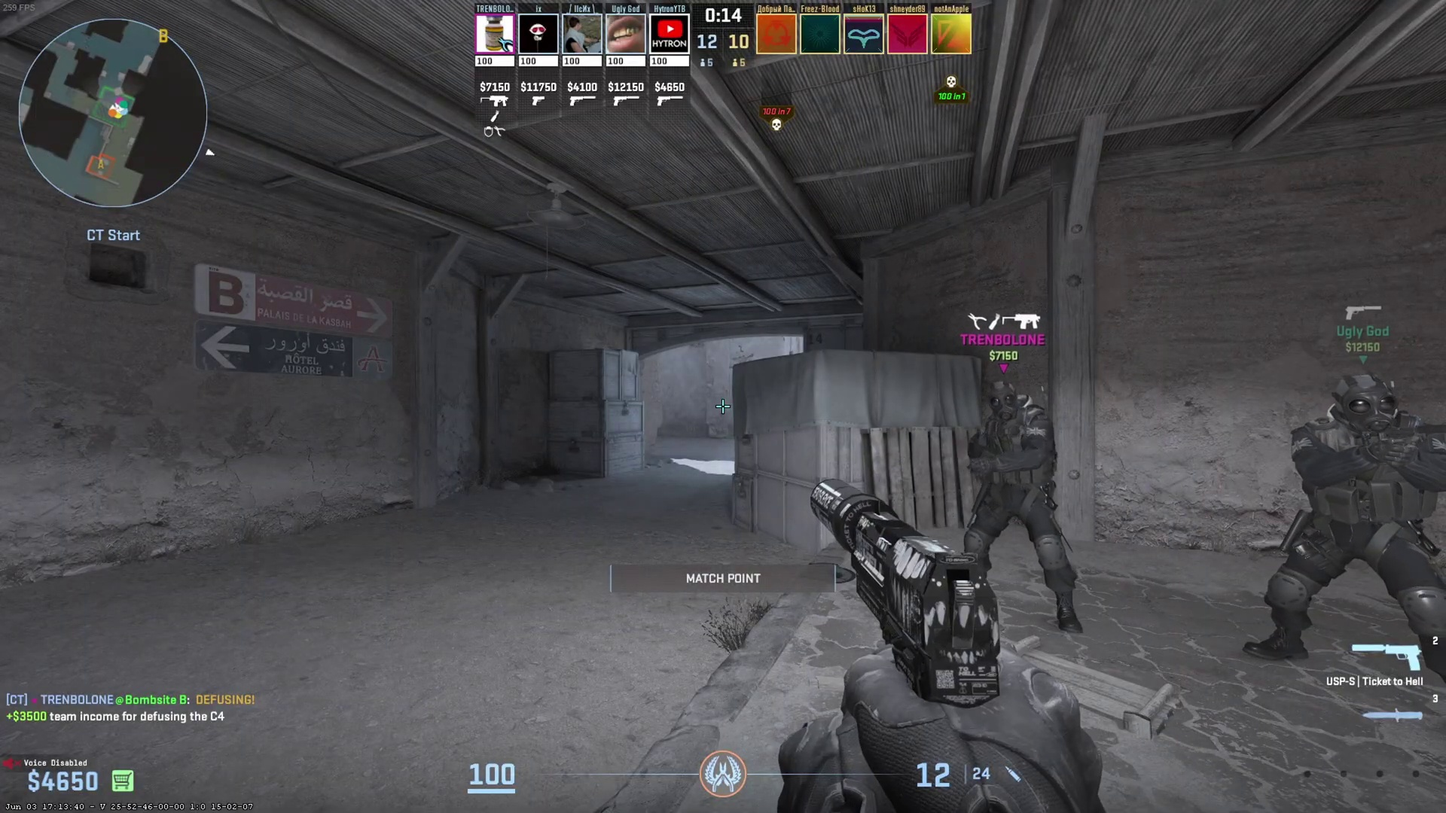CT: (1296, 376, 1445, 696), (966, 387, 1077, 628)
